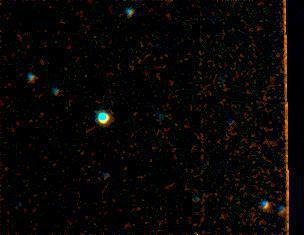star: (85, 104, 115, 134)
